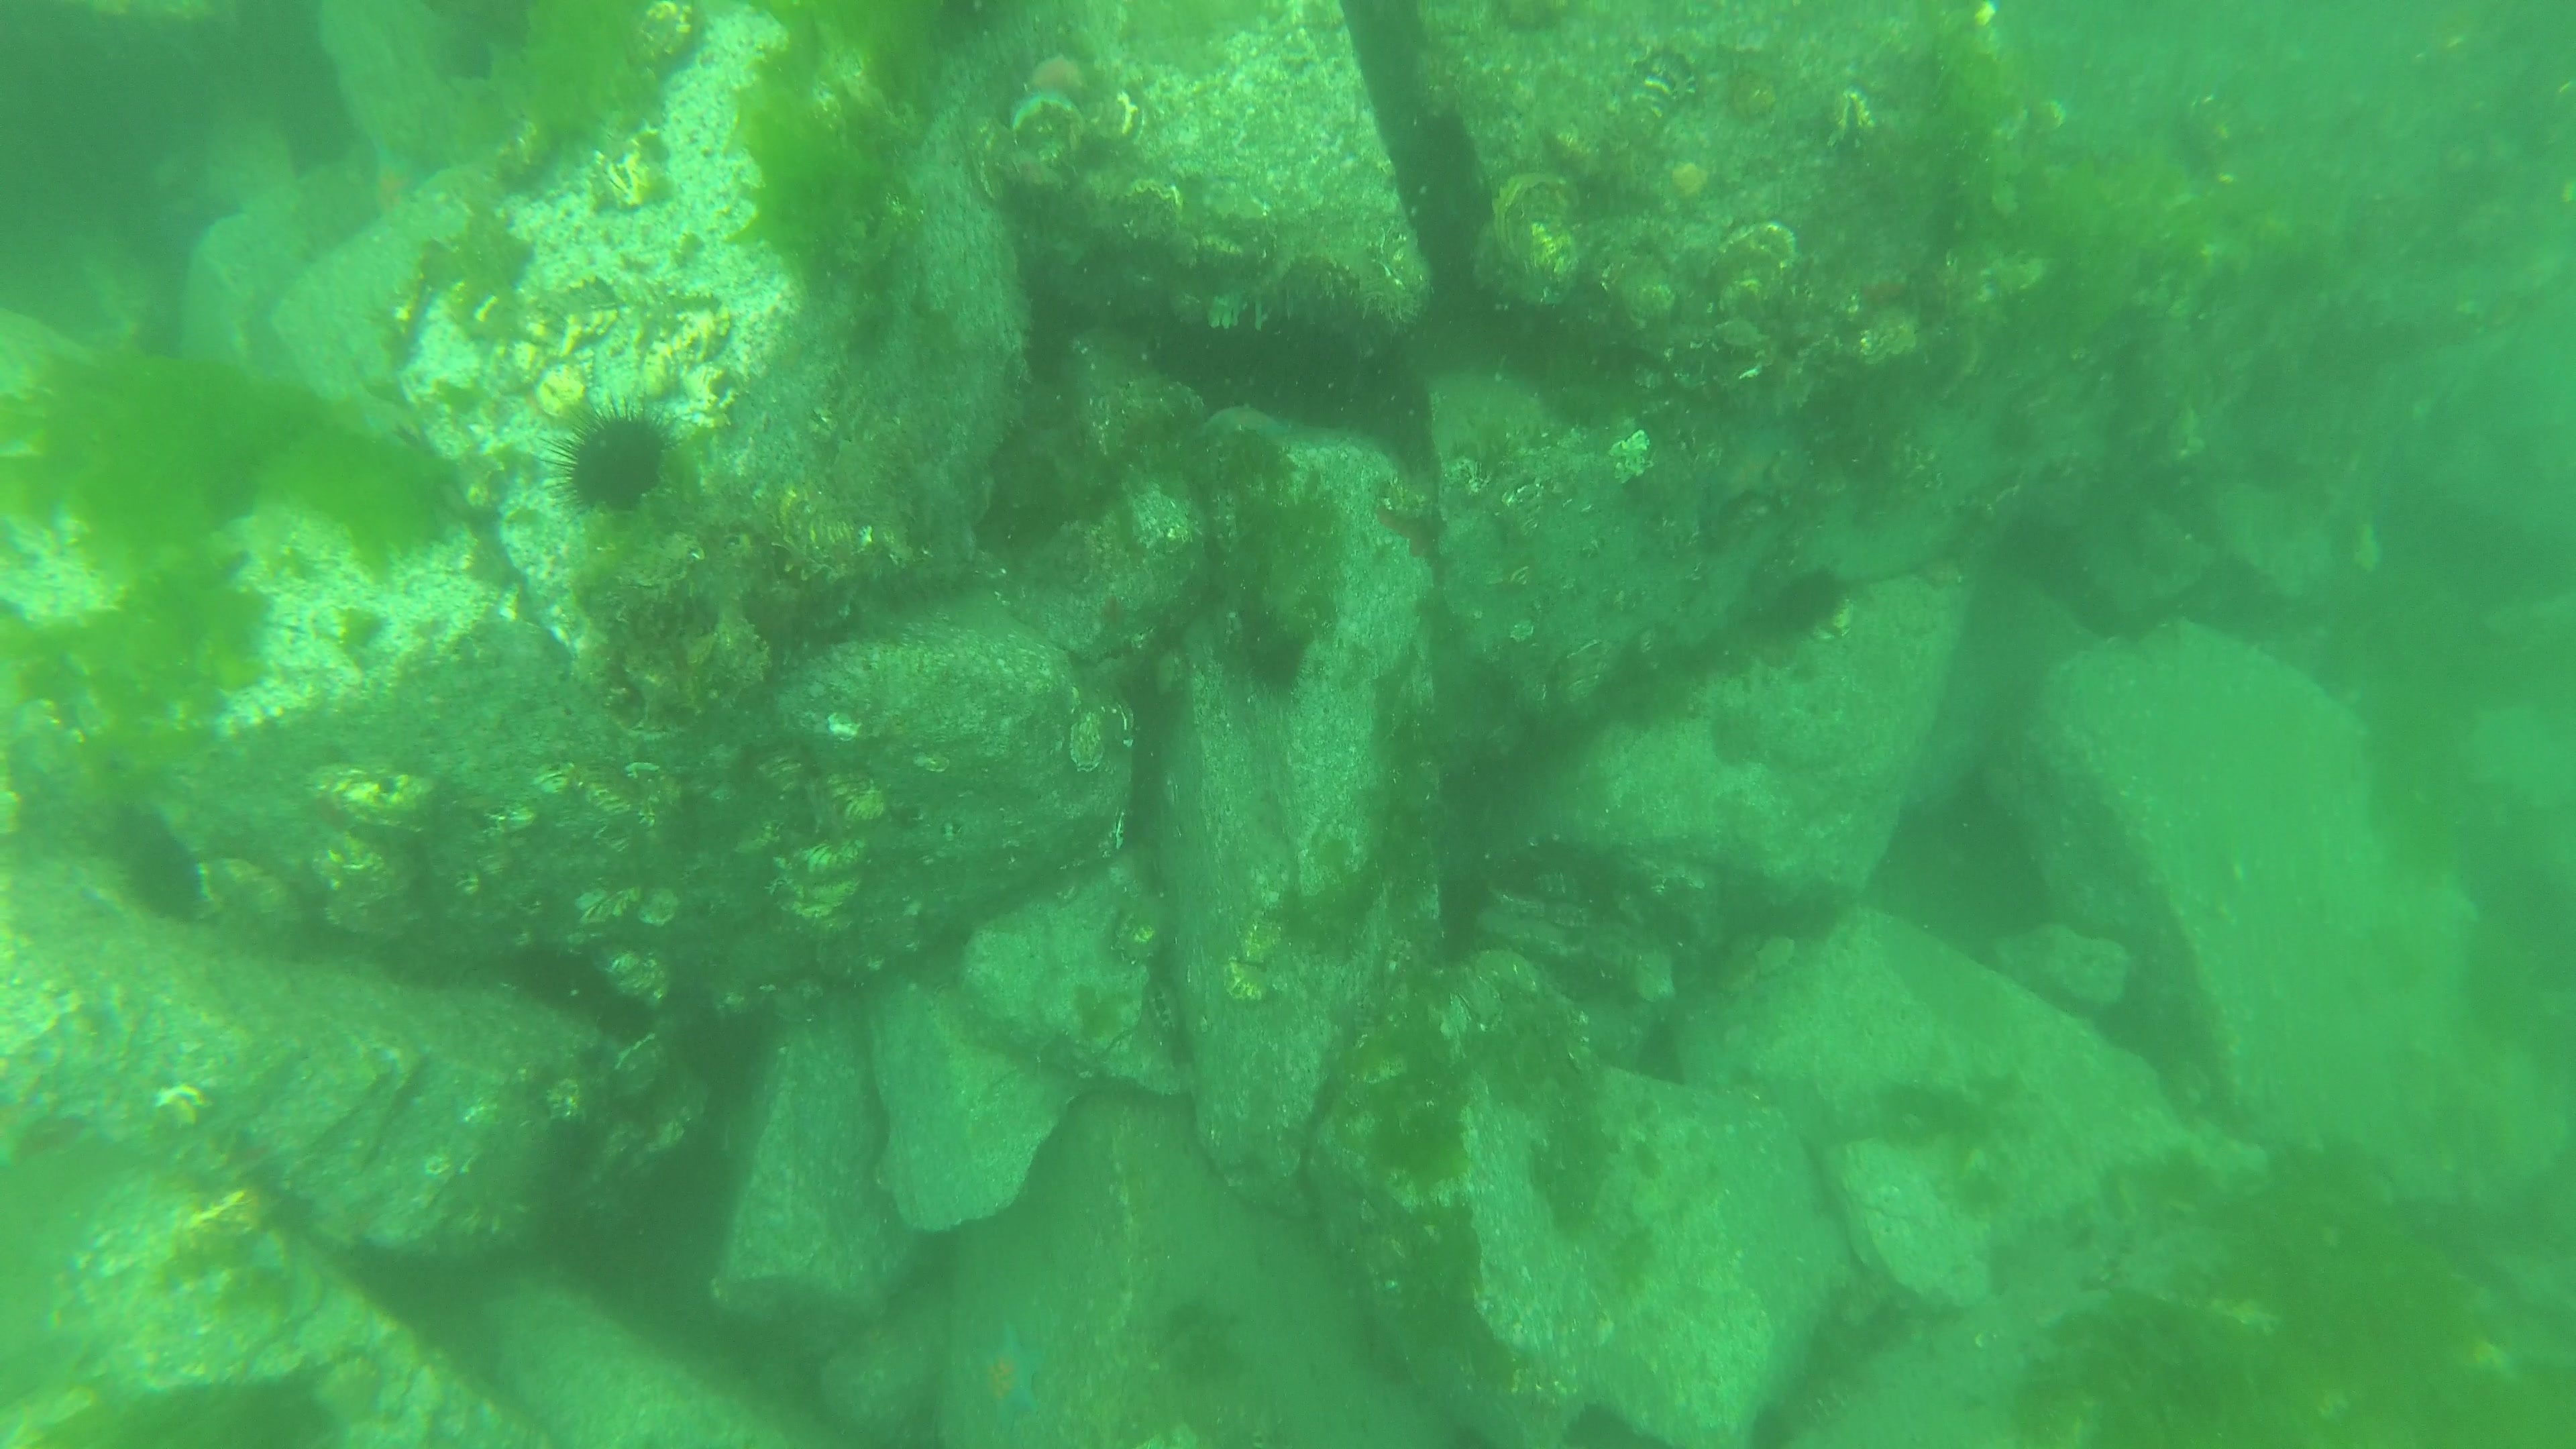echinus: (534, 379, 692, 527), (119, 828, 211, 925), (1766, 563, 1854, 640), (1237, 628, 1322, 706)
starfish: (962, 1323, 1049, 1430), (359, 142, 430, 223)
